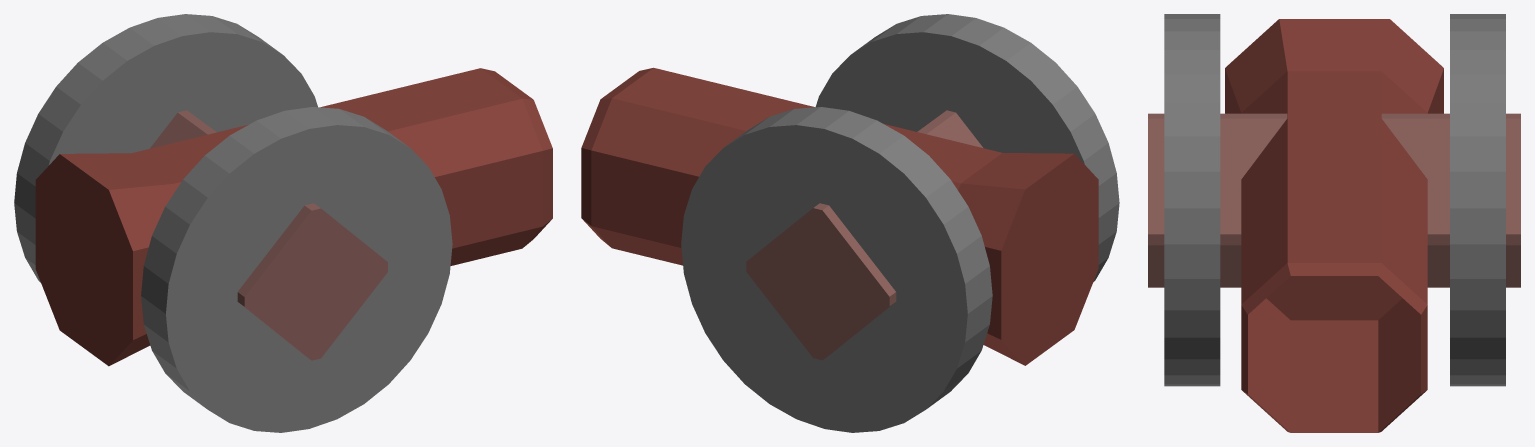
The model's file is Cannon.fbx.
The picture shows the model from 3 angles, left to right: view 1: azimuth 30°, elevation 25°; view 2: azimuth 150°, elevation 25°; view 3: azimuth 270°, elevation 25°; orthographic projection. The views are drawn at different scales.
Parts seen in each view (by area): view 1: Cylinder.001; view 2: Cylinder.001; view 3: Cylinder.001.
Part boxes in pixels (box(x1,y1,x2,y2)): Cylinder.001: box(14, 14, 552, 432); Cylinder.001: box(581, 14, 1119, 432); Cylinder.001: box(1148, 14, 1520, 432).
Bounding box in the file's own units: 60 × 40 × 40.
